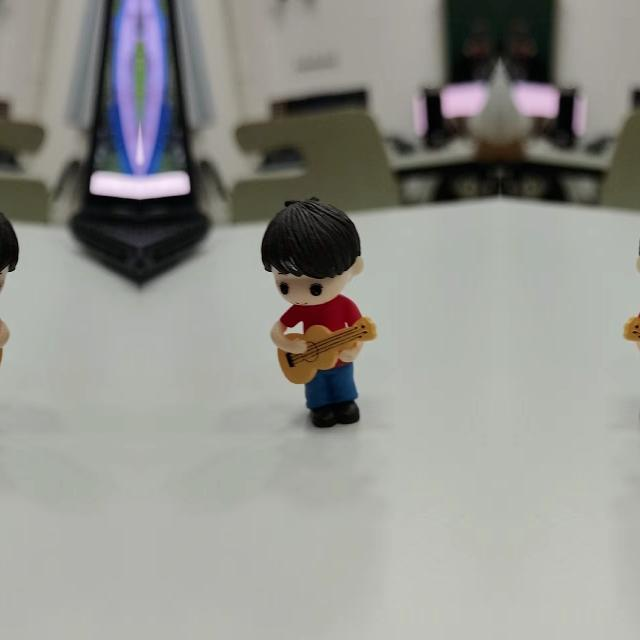man cloth: (283, 296, 359, 332)
man head: (264, 190, 360, 300), (0, 189, 16, 300)
trousers: (300, 360, 364, 432), (636, 360, 640, 432)
